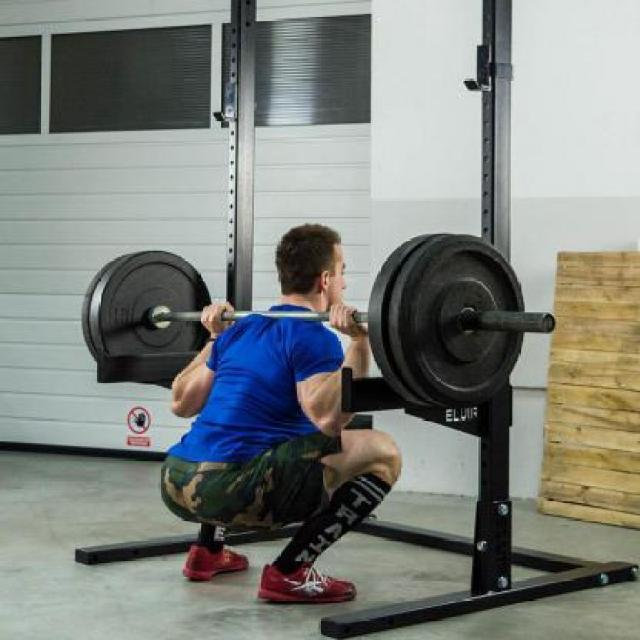Barbell: (538, 310, 562, 338)
